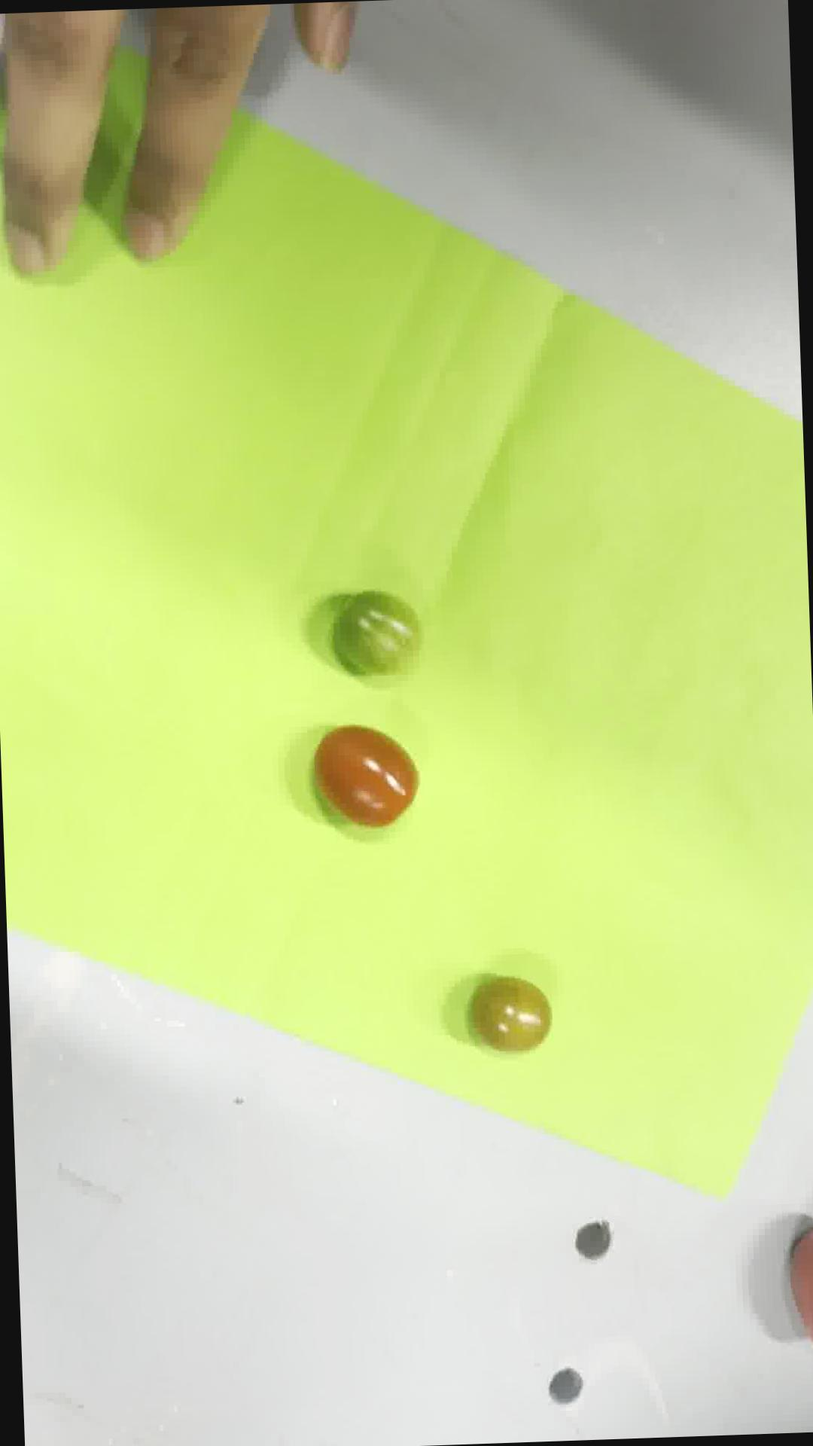green_cherry_tomato: (331, 589, 422, 678)
red_cherry_tomato: (314, 726, 418, 826)
yellow_cherry_tomato: (469, 976, 550, 1052)
